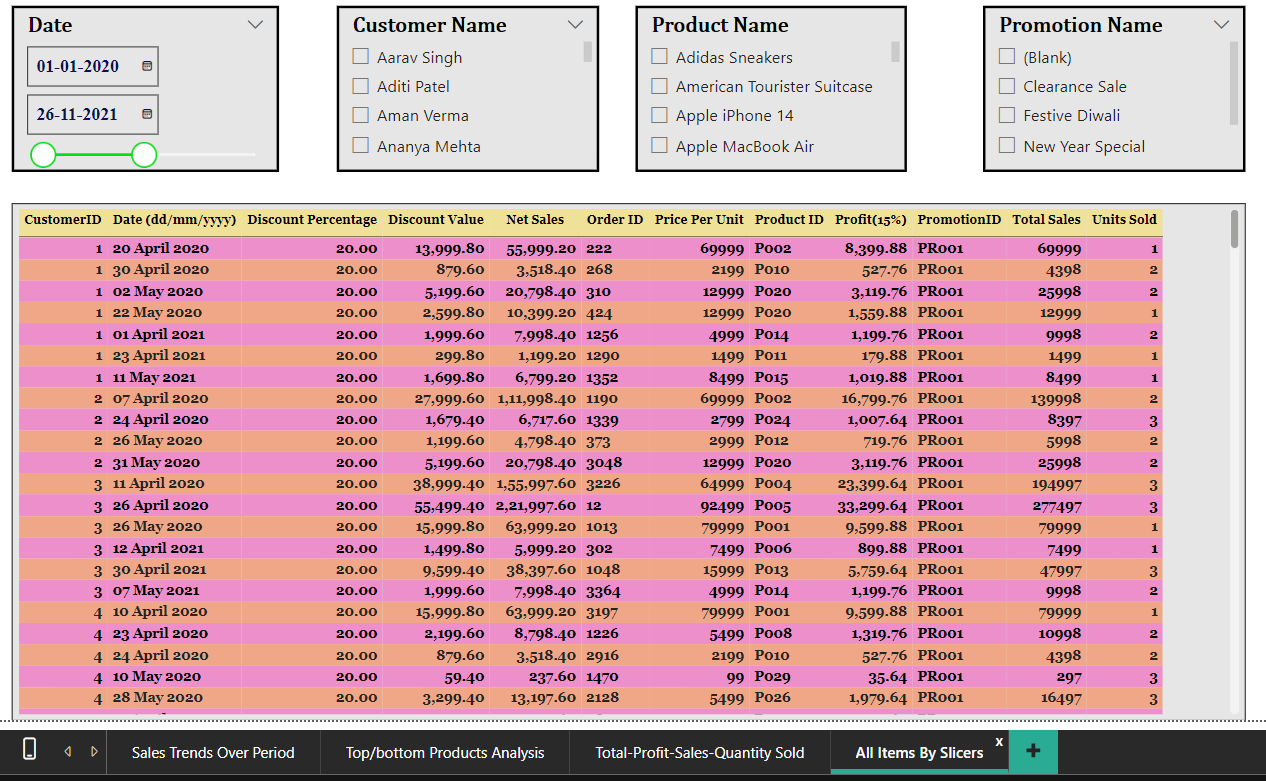

The page's visual inventory and layout, read from the dashboard file:
{"tool":"powerbi","page":{"name":"All Items By Slicers","canvas":[1280,720],"ordinal":3},"visuals":[{"type":"tableEx","fields":{"Values":["Fact Table.CustomerID","Fact Table.Date (dd/mm/yyyy)","Fact Table.Discount Percentage","Fact Table.Discount Value","Fact Table.Net Sales","Fact Table.Order ID","Fact Table.Price Per Unit","Fact Table.Product ID","Fact Table.Profit(15%)","Fact Table.PromotionID","Fact Table.Total Sales","Fact Table.Units Sold"]},"box":[28.2,212.3,1211,508],"z":0},{"type":"slicer","fields":{"Values":["Dim Customers.Customer Name"]},"box":[347.2,18.4,257.7,163.2],"z":1000},{"type":"slicer","fields":{"Values":["Fact Table.Date (dd/mm/yyyy)"]},"box":[28.2,18.4,262.6,163.2],"z":2000},{"type":"slicer","fields":{"Values":["Dim Product.Product Name"]},"box":[640.5,18.4,266.3,163.2],"z":3000},{"type":"slicer","fields":{"Values":["Dim Promotion.Promotion Name"]},"box":[981.6,18.4,257.7,163.2],"z":4000}]}

Visuals, with their boxes on the page's 1280x720 design canvas (x1, y1, x2, y2). These are canvas units, not pixel positions in the 1266x781 screenshot, which may show the page scaled, cropped or inside an application window:
tableEx - Fact Table.CustomerID x Fact Table.Date (dd/mm/yyyy): {"left": 28, "top": 212, "right": 1239, "bottom": 720}
slicer - Dim Customers.Customer Name: {"left": 347, "top": 18, "right": 605, "bottom": 182}
slicer - Fact Table.Date (dd/mm/yyyy): {"left": 28, "top": 18, "right": 291, "bottom": 182}
slicer - Dim Product.Product Name: {"left": 640, "top": 18, "right": 907, "bottom": 182}
slicer - Dim Promotion.Promotion Name: {"left": 982, "top": 18, "right": 1239, "bottom": 182}
